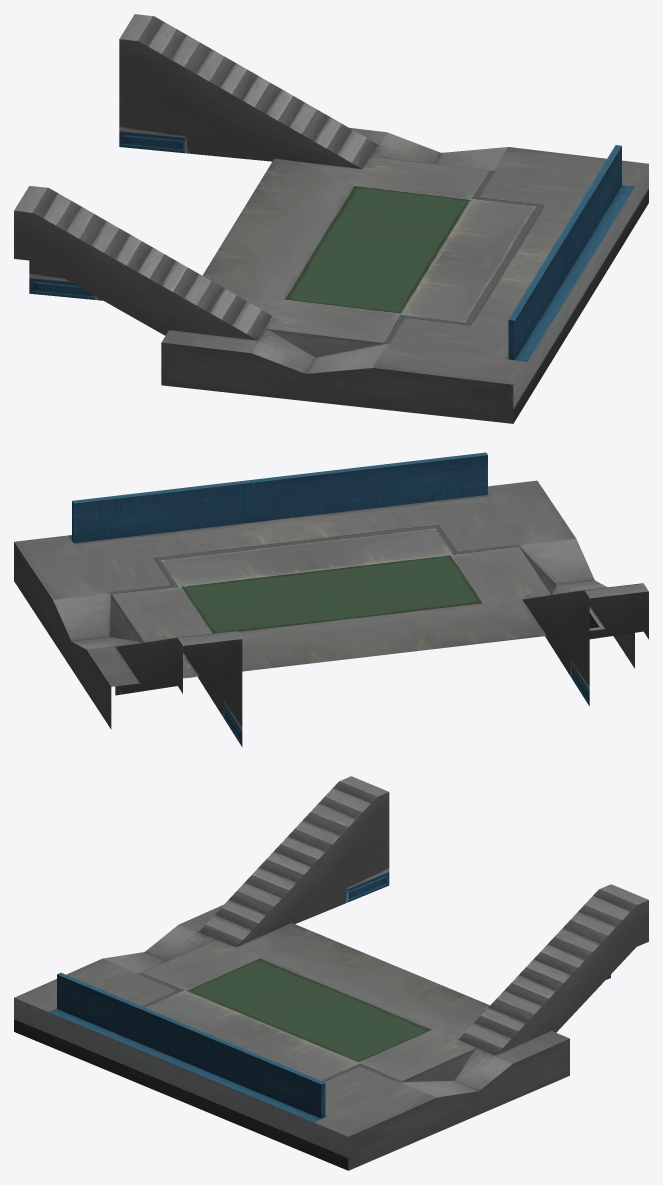
File: Maihan_Guanzhongxi_01.FBX
3 views of the same model, one above another, from view 1: azimuth 30°, elevation 25°; view 2: azimuth 150°, elevation 25°; view 3: azimuth 270°, elevation 25° (orthographic). The views are drawn at different scales.
Visible parts, largest first — view 1: Maihan_Guanzhongxi_01; view 2: Maihan_Guanzhongxi_01; view 3: Maihan_Guanzhongxi_01.
Part boxes in pixels (x1,y1,x2,y2): Maihan_Guanzhongxi_01: [14, 14, 648, 423]; Maihan_Guanzhongxi_01: [14, 452, 648, 746]; Maihan_Guanzhongxi_01: [14, 776, 648, 1170].
Bounding box in the file's own units: 2682 × 617 × 2681.
